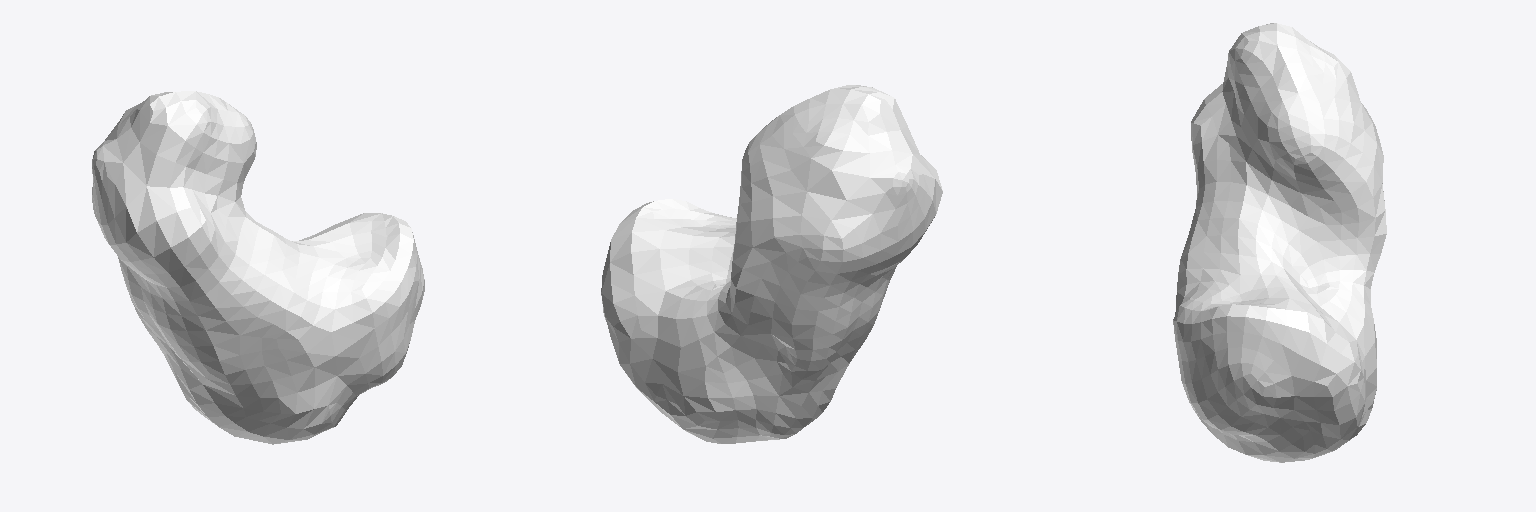
The model's file is Rock06.Obj.
The picture shows the model from 3 angles: view 1: azimuth 30°, elevation 25°; view 2: azimuth 150°, elevation 25°; view 3: azimuth 270°, elevation 25°; orthographic projection.
Parts seen in each view (by area): view 1: Volume4; view 2: Volume4; view 3: Volume4.
Part boxes in pixels (x1,y1,x2,y2): Volume4: (92, 91, 424, 444); Volume4: (601, 85, 942, 443); Volume4: (1173, 23, 1386, 462).
Size of the model in its own units: 168 by 195 by 102.